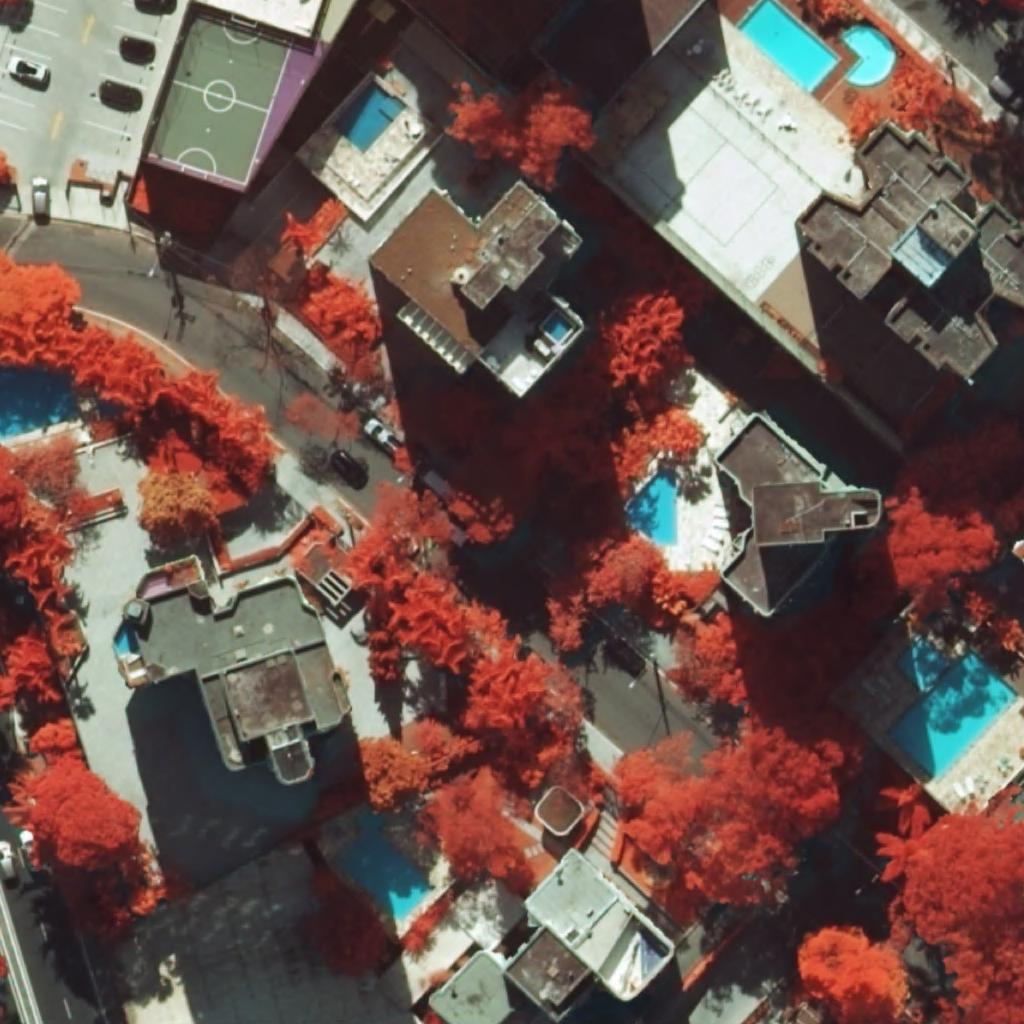pool: (885, 637, 1019, 781), (335, 811, 435, 920), (737, 0, 838, 91), (0, 368, 81, 439), (332, 80, 407, 153), (628, 469, 677, 545), (842, 26, 894, 82), (114, 622, 140, 656), (543, 313, 572, 342)
